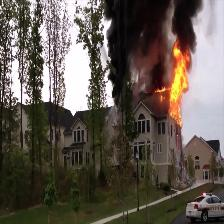fire: (171, 51, 187, 115)
smoke: (110, 3, 167, 88), (174, 1, 195, 45)
